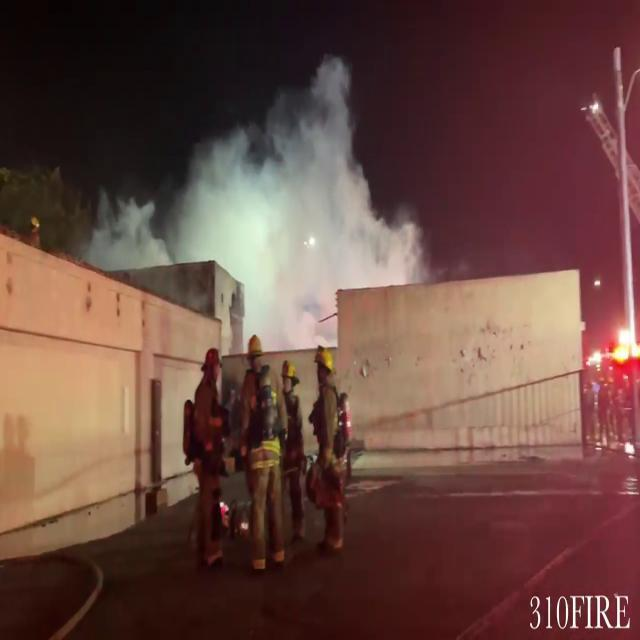Smoke: (184, 52, 438, 330), (80, 188, 172, 274)
